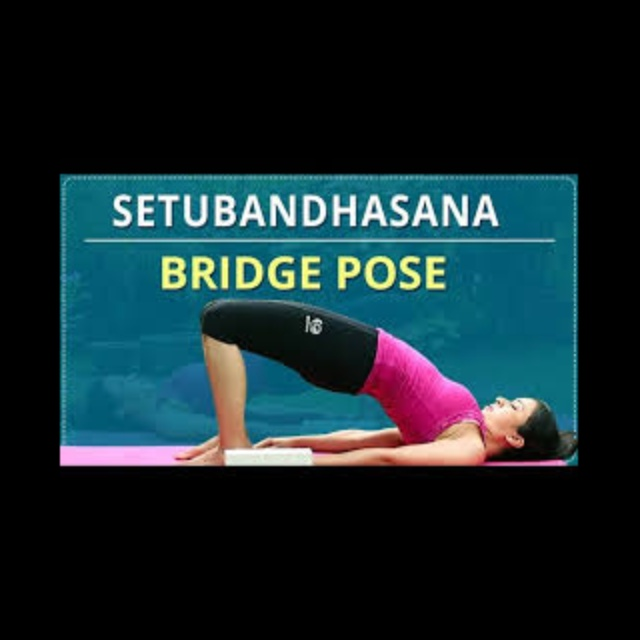Bridge_Pose: (170, 293, 566, 465)
